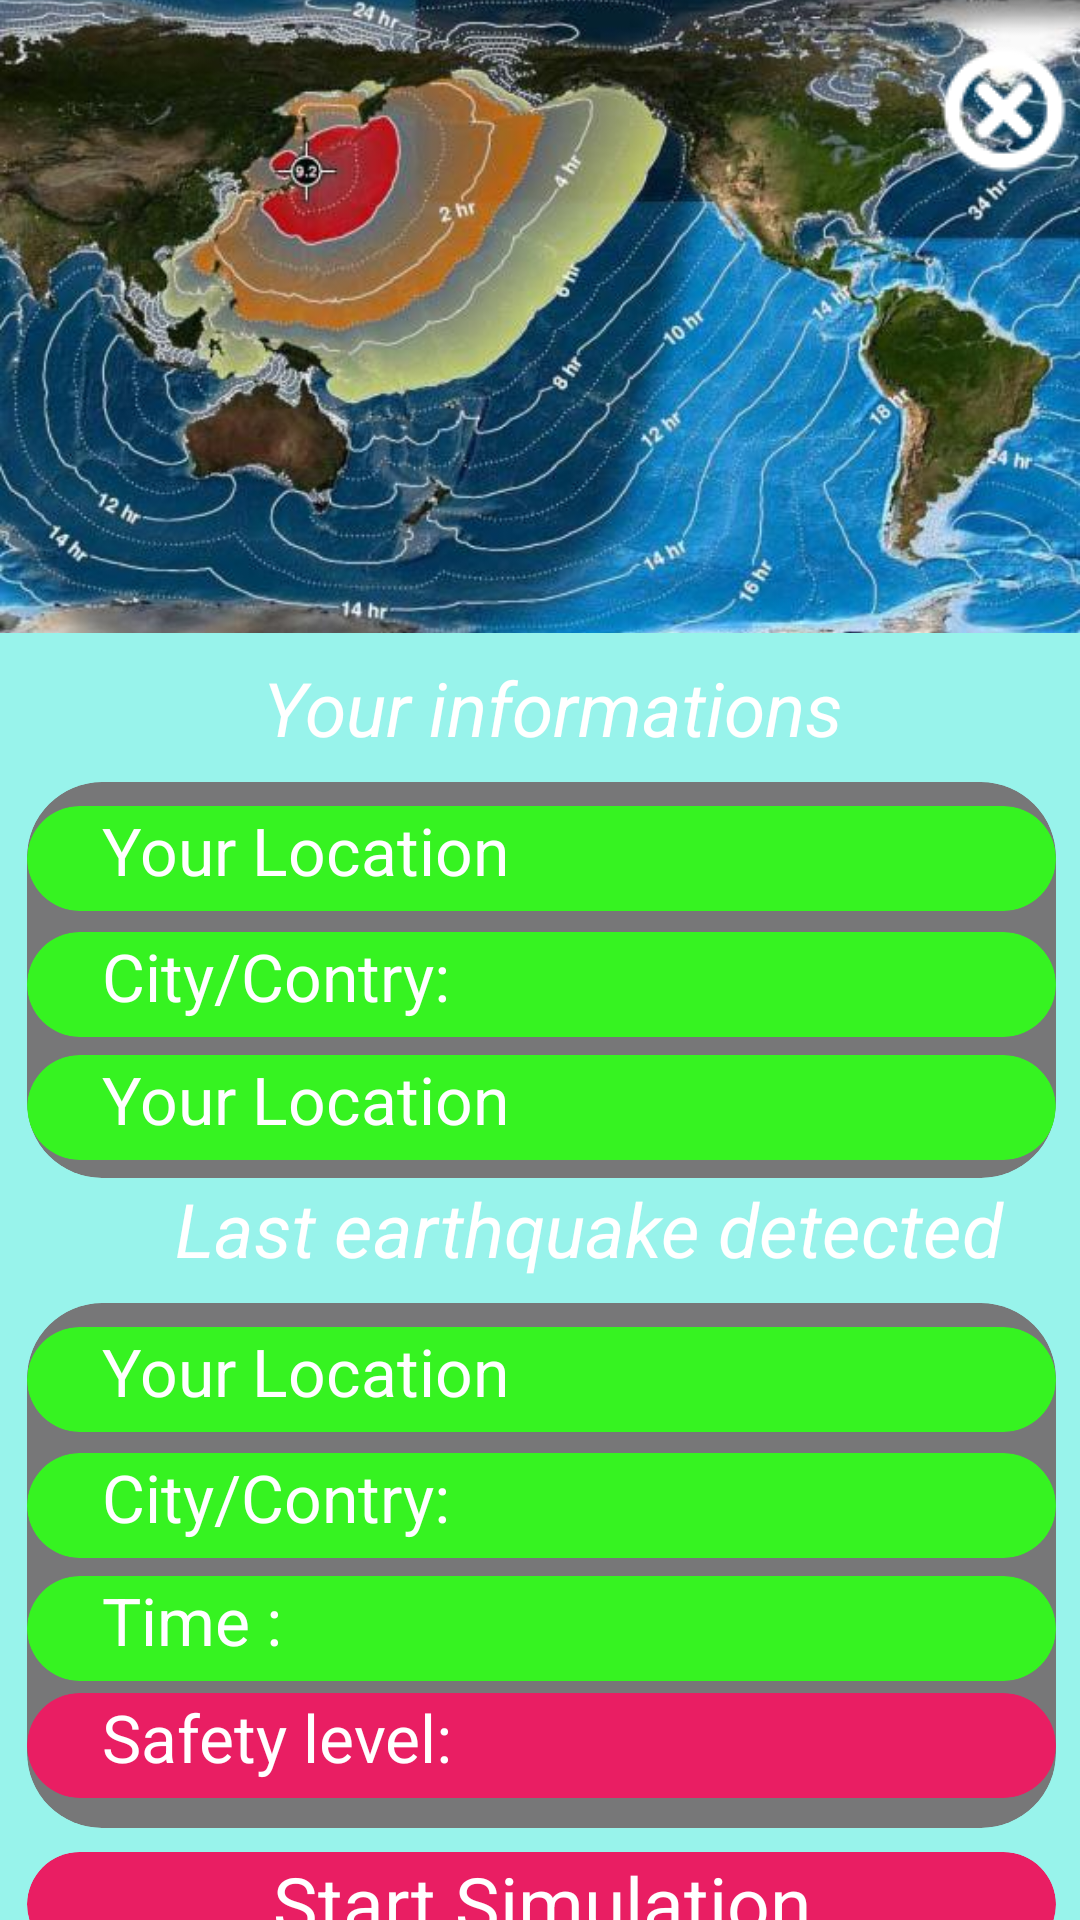

Screen size 1080 x 1920. Icon name, then its center in pixels as [x,y]:
close: [1005,111]
